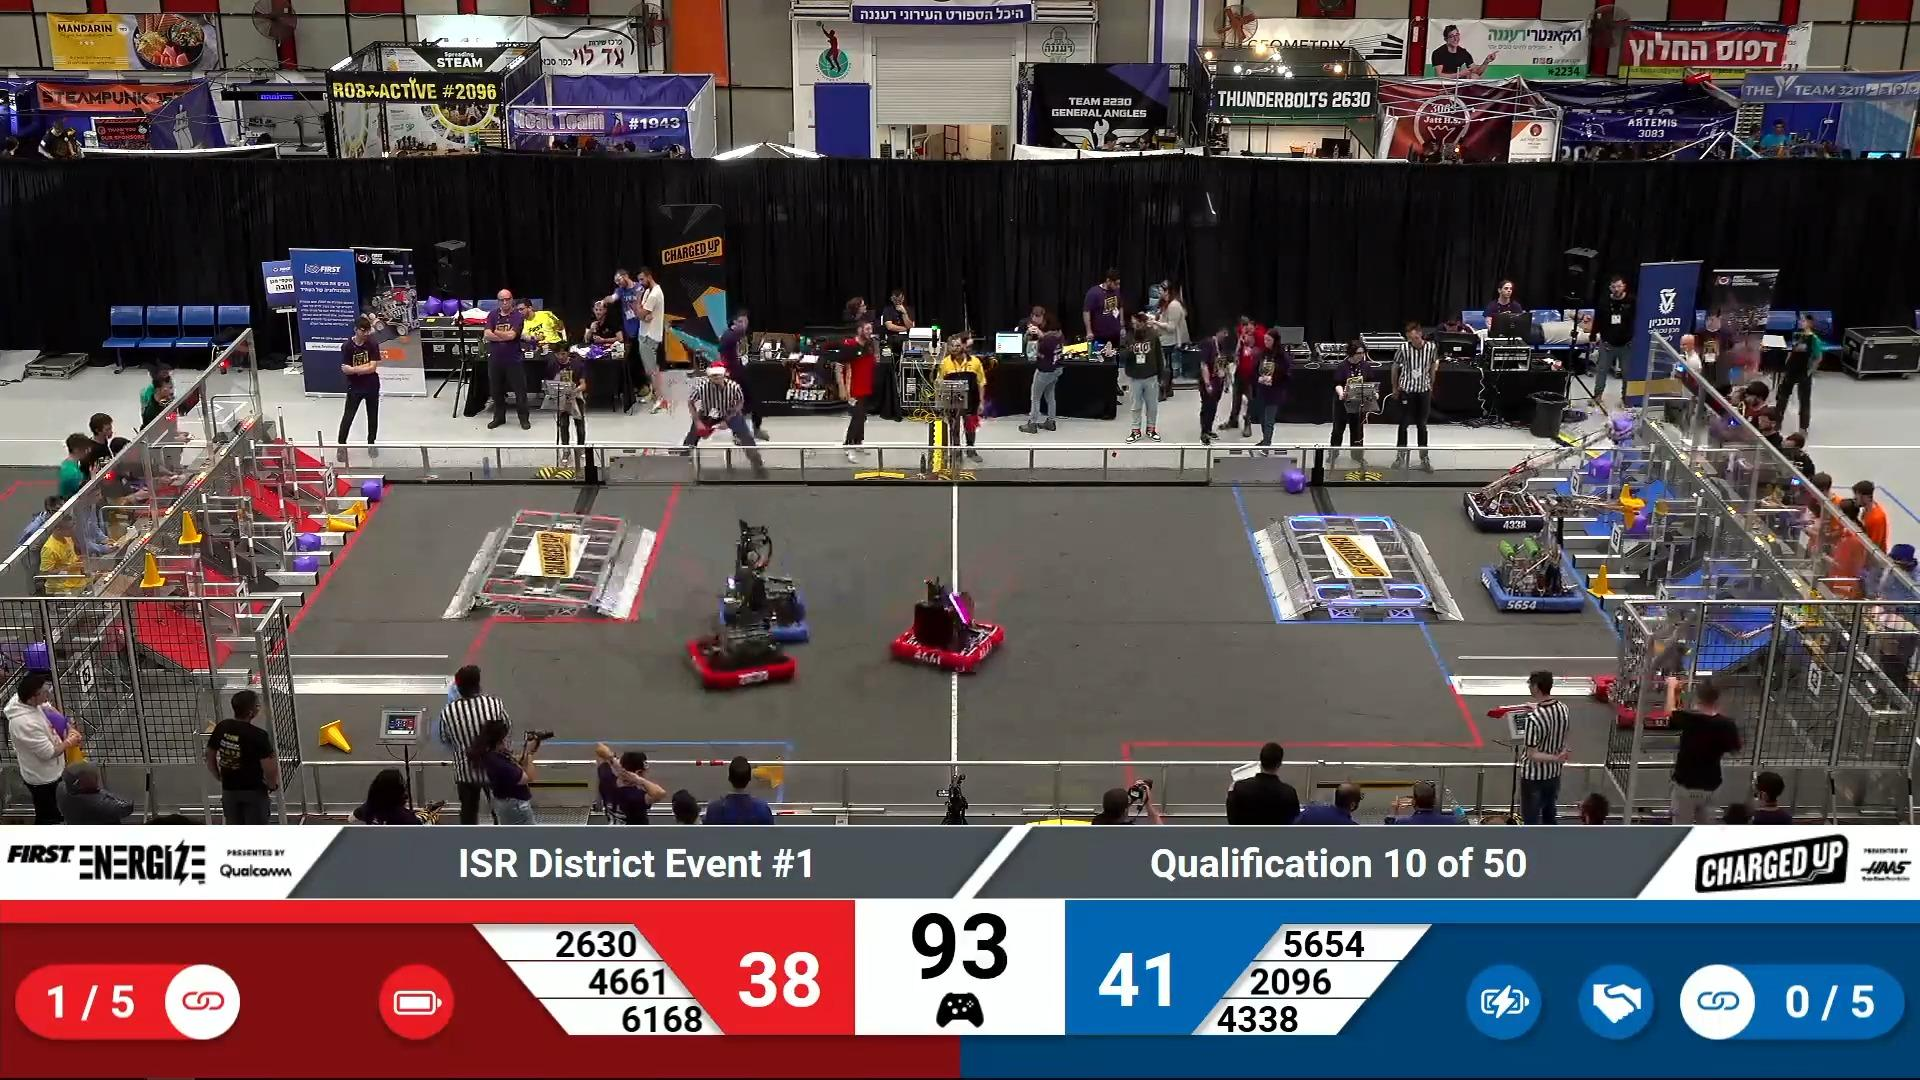robot: (889, 589, 1009, 678), (1466, 553, 1593, 621), (684, 621, 800, 695), (1589, 667, 1709, 729), (716, 567, 810, 644), (1452, 476, 1547, 534)
